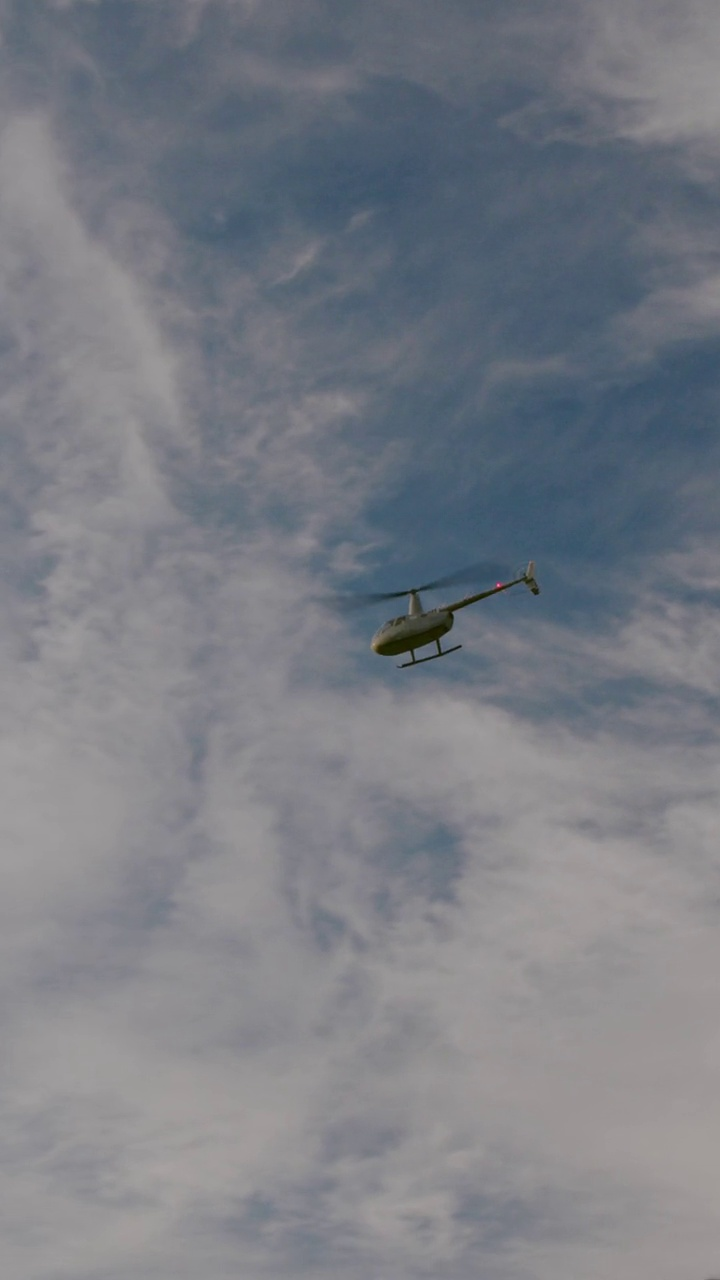heli: (340, 557, 541, 672)
